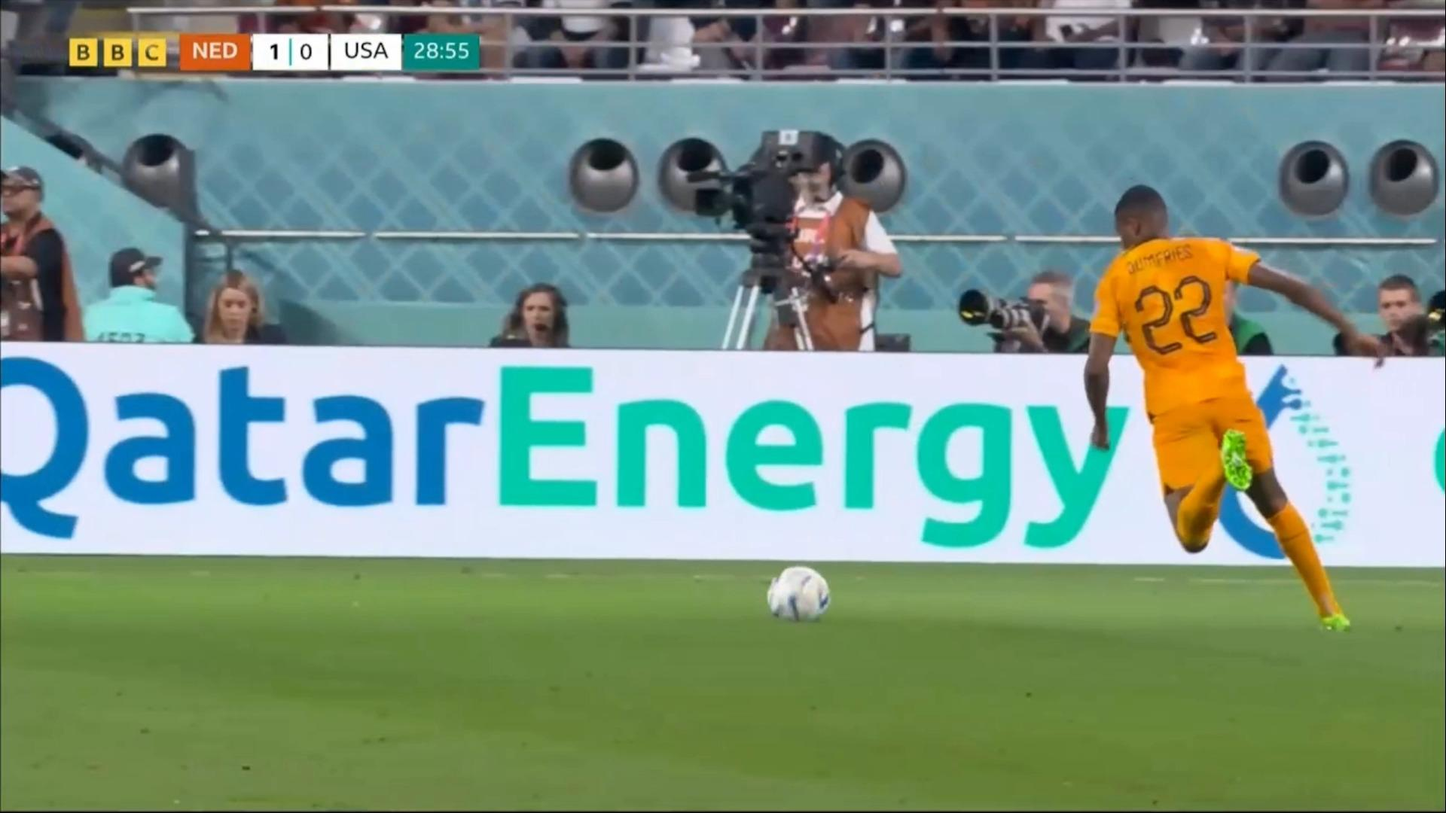Ball: (769, 564, 828, 621)
Player: (1075, 183, 1386, 637), (767, 130, 903, 353), (0, 166, 84, 343), (82, 247, 195, 344), (1333, 275, 1437, 358), (994, 271, 1091, 355), (197, 270, 289, 345), (489, 284, 572, 349)
